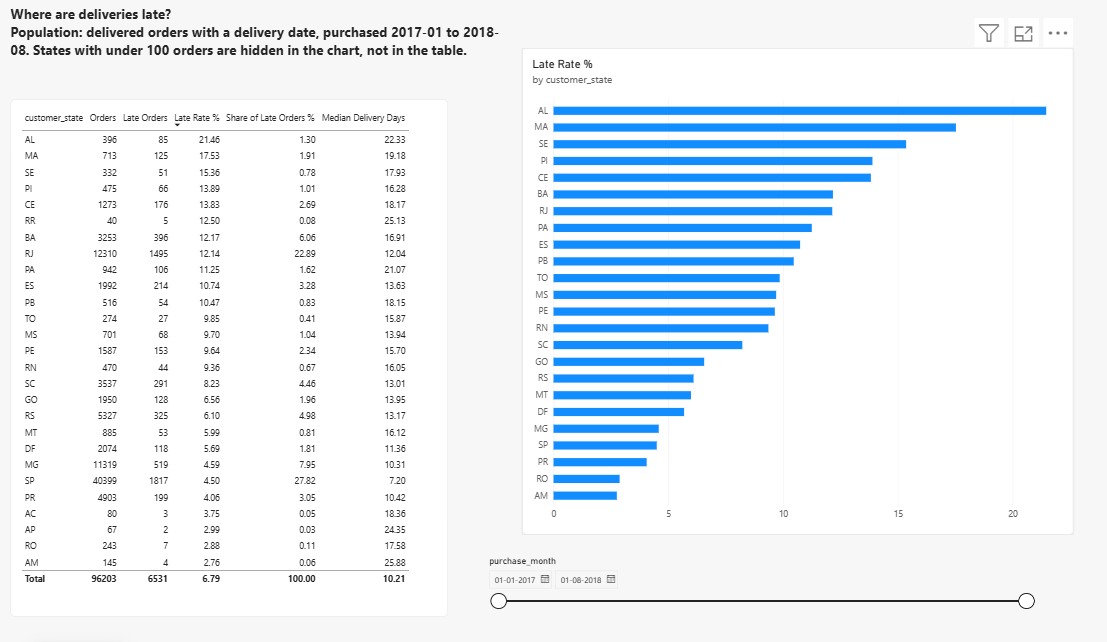

The dashboard page shown, as its layout file describes it:
{"tool":"powerbi","page":{"name":"Geography","canvas":[1920,1080],"ordinal":1},"visuals":[{"type":"tableEx","fields":{"Values":["orders_window.customer_state","orders_window.Orders","orders_window.Late Orders","orders_window.Late Rate %","orders_window.Share of Late Orders %","orders_window.Median Delivery Days"]},"box":[28,178,700,828],"z":0},{"type":"clusteredBarChart","fields":{"Category":["orders_window.customer_state"],"Y":["orders_window.Late Rate %"]},"box":[846,96,884,778],"z":1},{"type":"textbox","box":[28,26,796,108],"z":2},{"type":"slicer","fields":{"Values":["orders_window.purchase_month"]},"box":[786,908,884,150],"z":3}]}

Visuals, with their boxes on the page's 1920x1080 design canvas (x1, y1, x2, y2). These are canvas units, not pixel positions in the 1107x642 screenshot, which may show the page scaled, cropped or inside an application window:
tableEx - orders_window.customer_state x orders_window.Orders: {"x1": 28, "y1": 178, "x2": 728, "y2": 1006}
clusteredBarChart - orders_window.customer_state x orders_window.Late Rate %: {"x1": 846, "y1": 96, "x2": 1730, "y2": 874}
textbox: {"x1": 28, "y1": 26, "x2": 824, "y2": 134}
slicer - orders_window.purchase_month: {"x1": 786, "y1": 908, "x2": 1670, "y2": 1058}
